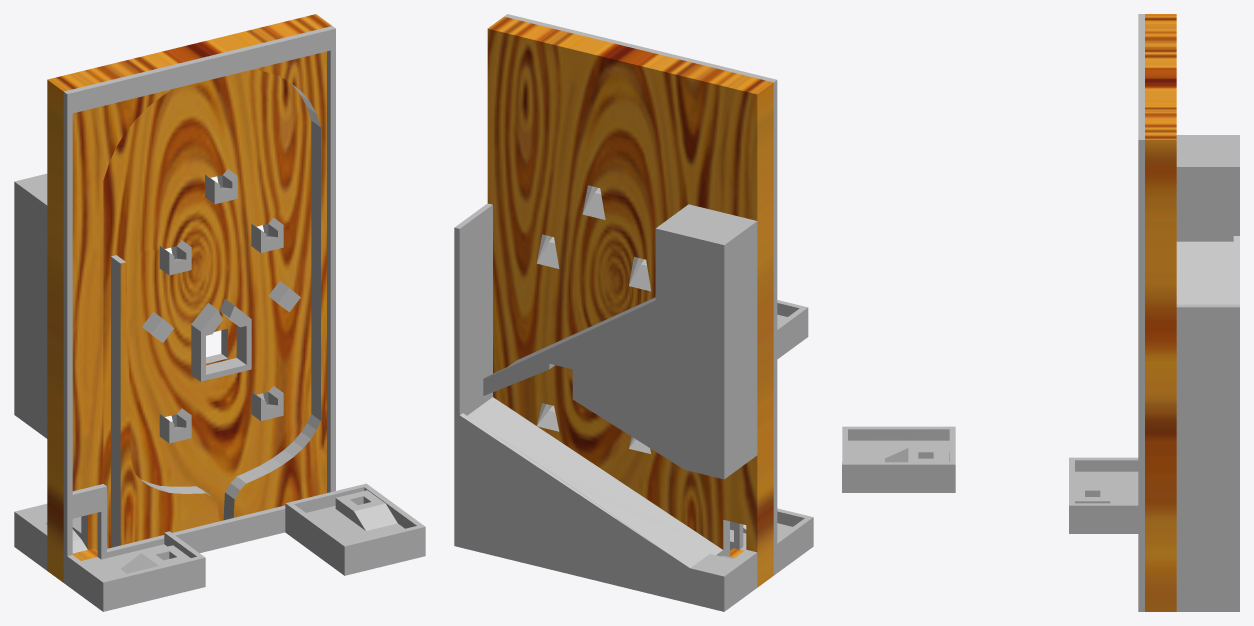
File: PachinkoMachine_DS_Low_Poly_KCL_VERSION.obj
3 views of the same model, side by side, from view 1: azimuth 30°, elevation 25°; view 2: azimuth 150°, elevation 25°; view 3: azimuth 270°, elevation 25° (orthographic). The views are drawn at different scales.
Parts seen in each view (by area): view 1: n5b3_n5b3.001; view 2: n5b3_n5b3.001; view 3: n5b3_n5b3.001.
Boxes of the visible parts, bbox=[...] form: n5b3_n5b3.001: bbox=[14, 14, 425, 611]; n5b3_n5b3.001: bbox=[454, 14, 813, 611]; n5b3_n5b3.001: bbox=[842, 14, 1239, 611].
Size of the model in its own units: 4.69 by 8.19 by 6.25.
